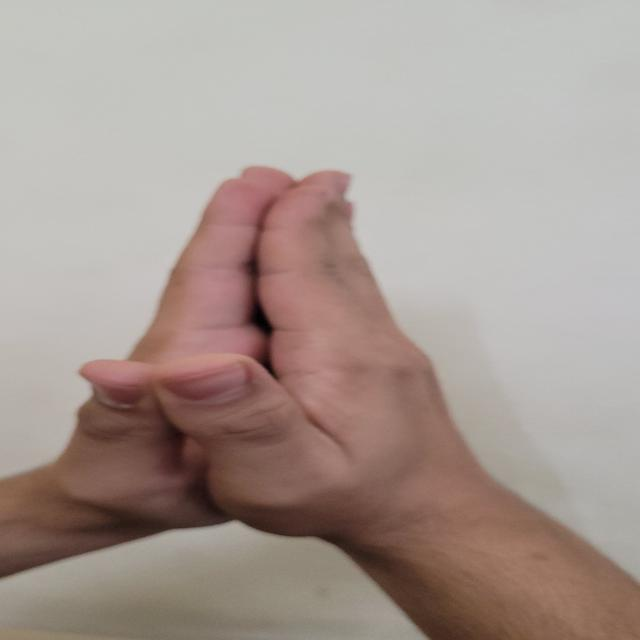Thank You: (26, 153, 518, 550)
